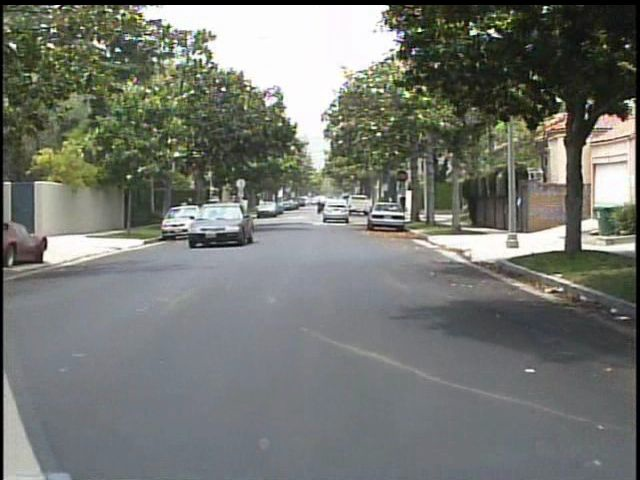person: (507, 189, 526, 237), (177, 196, 194, 231)
